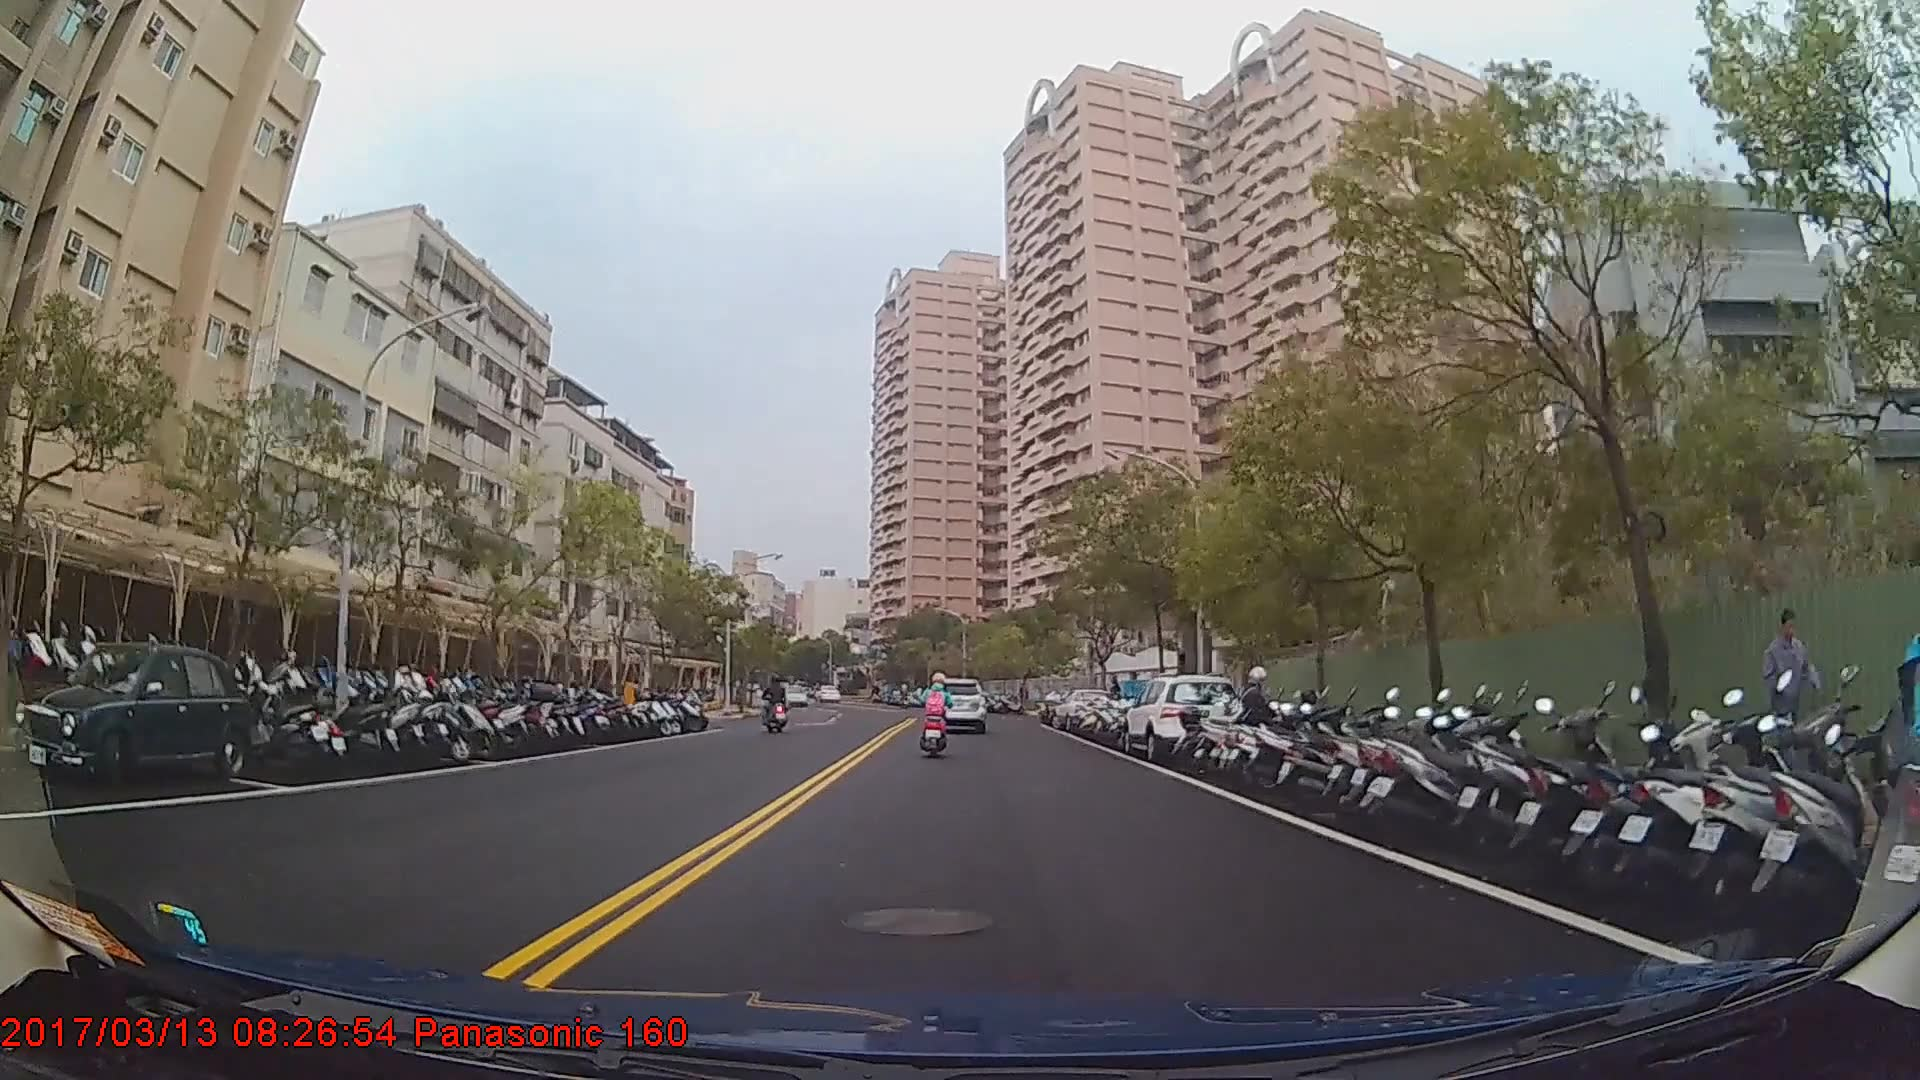pedestrian: (1763, 605, 1825, 785), (1895, 603, 1920, 898)
rider: (920, 673, 955, 761), (762, 673, 790, 733)
vehicle: (13, 637, 247, 791), (1121, 673, 1240, 762), (927, 678, 985, 732), (779, 684, 809, 707)
